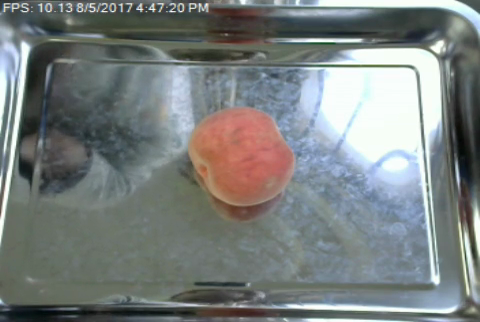Peach: (188, 106, 294, 206)
